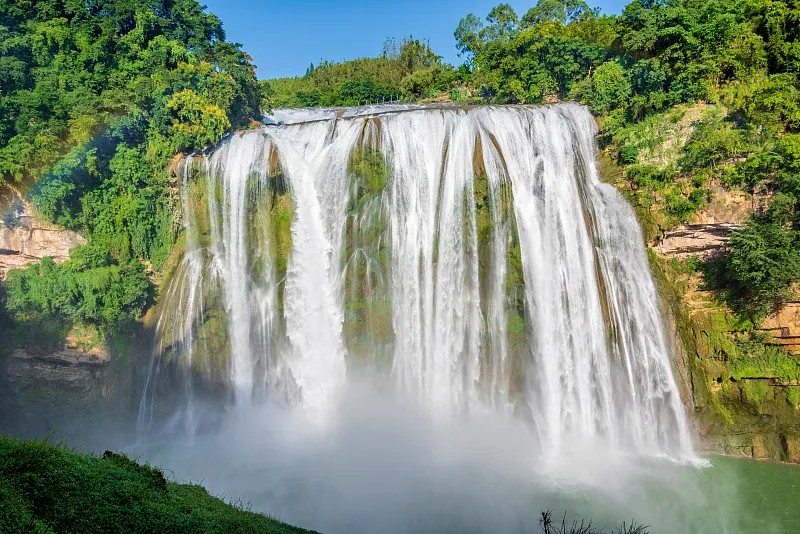Huangguoshu: (147, 102, 695, 459)
